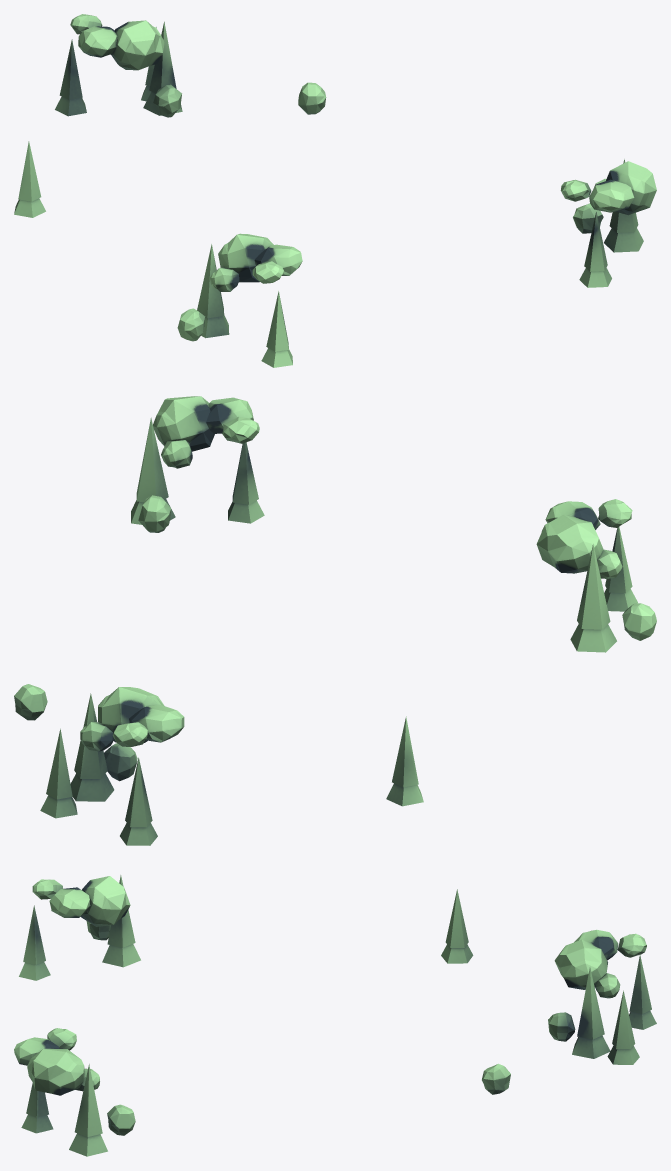
File: Wood_01.FBX
3 views of the same model, one above another, from view 1: azimuth 30°, elevation 25°; view 2: azimuth 150°, elevation 25°; view 3: azimuth 270°, elevation 25° (orthographic). The views are drawn at different scales.
Visible parts, largest first — view 1: Wood_01; view 2: Wood_01; view 3: Wood_01.
Boxes of the visible parts, x1,y1,x2,y2 form: Wood_01: (14, 14, 656, 367); Wood_01: (14, 396, 656, 845); Wood_01: (14, 875, 656, 1156).
Bounding box in the file's own units: 17.31 × 3.56 × 21.54.
